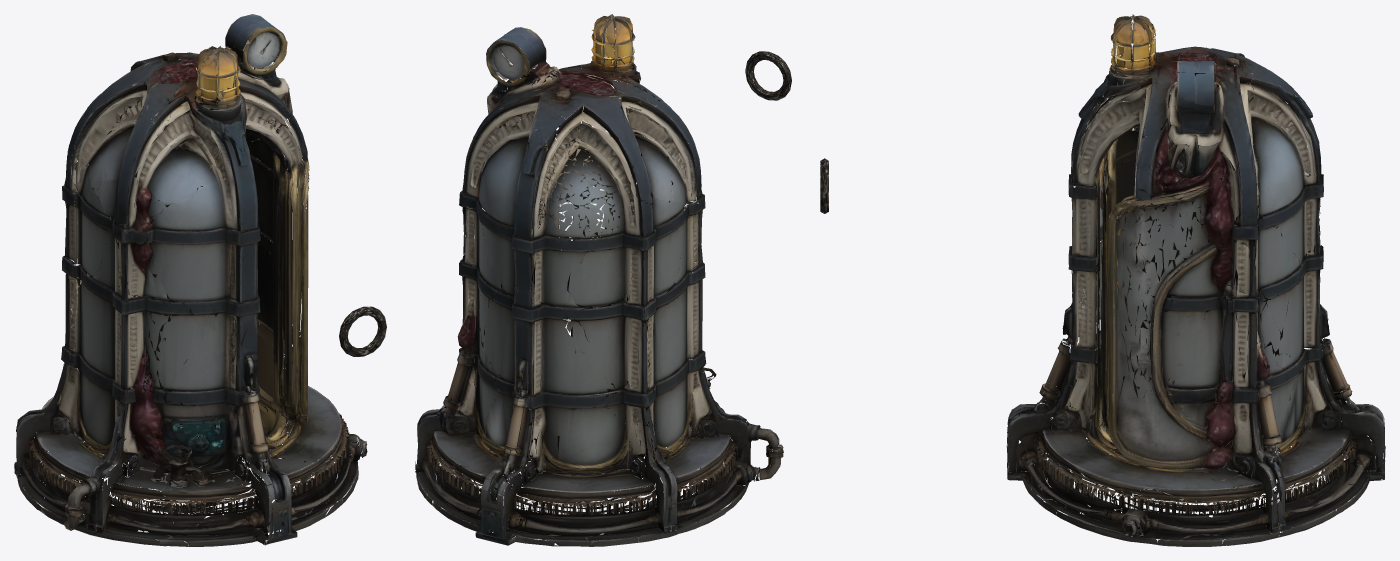
The model's file is hazard_beneficiary_steam_rotary_airlock.glb.
3 views of the same model, side by side, from view 1: azimuth 30°, elevation 25°; view 2: azimuth 150°, elevation 25°; view 3: azimuth 270°, elevation 25° (orthographic). The views are drawn at different scales.
Parts seen in each view (by area): view 1: node_0, HB_ROTOR_00; view 2: node_0, HB_ROTOR_00; view 3: node_0.
Boxes of the visible parts, x1=… form: node_0: x1=14, y1=14, x2=367, y2=546; HB_ROTOR_00: x1=339, y1=306, x2=386, y2=356; node_0: x1=415, y1=14, x2=783, y2=546; HB_ROTOR_00: x1=745, y1=51, x2=791, y2=100; node_0: x1=1006, y1=14, x2=1385, y2=546.
Size of the model in its own units: 0.6973 by 0.9644 by 1.08.
Materials: 1 (1 with a texture image).
